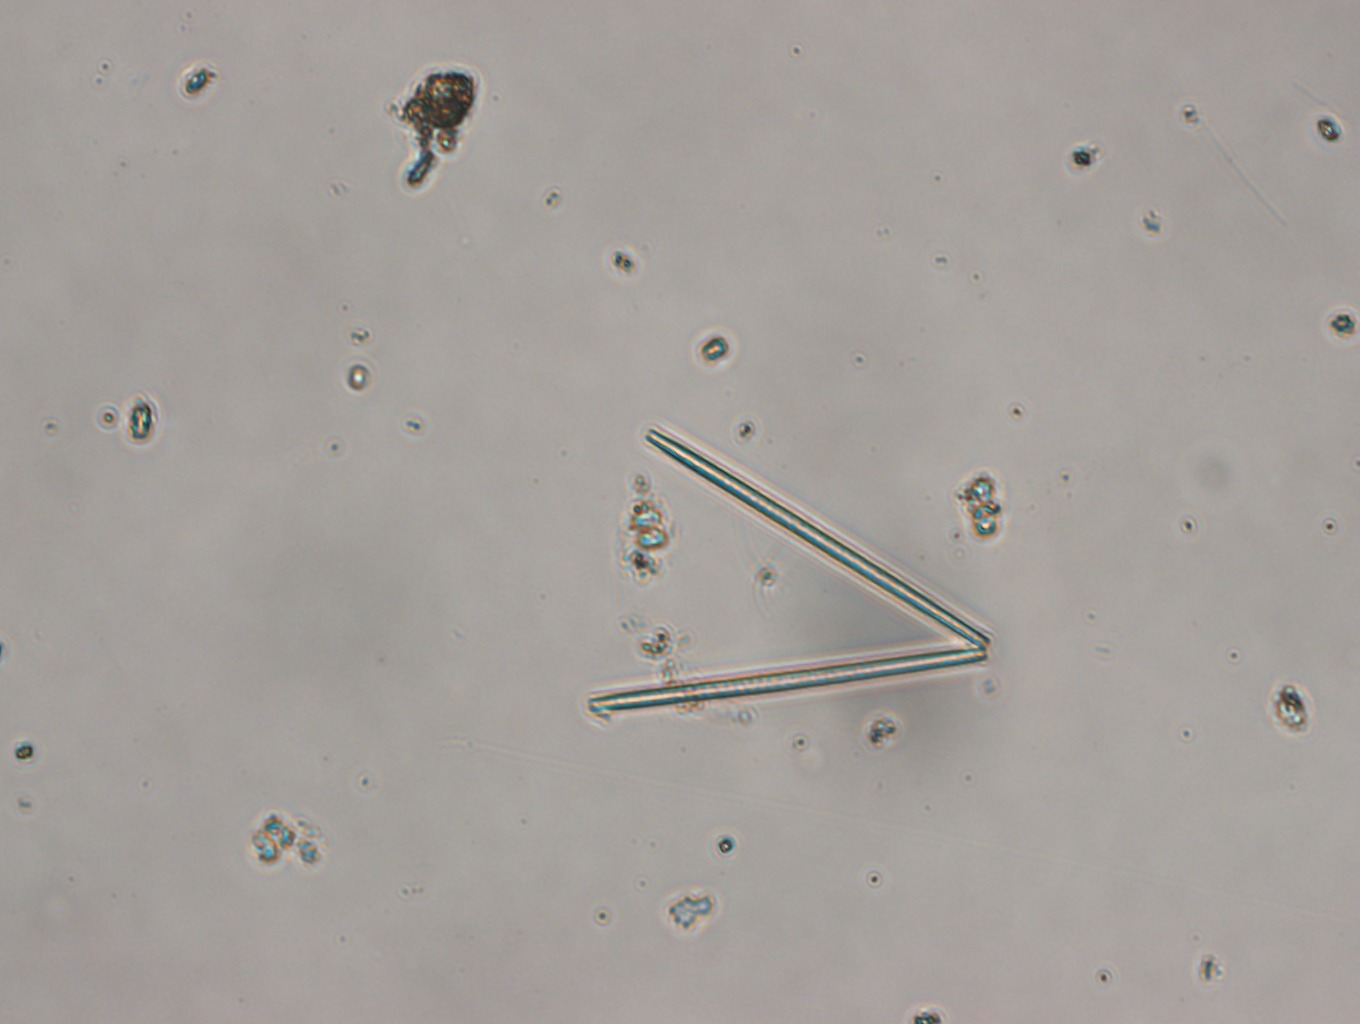thalassionema frauenfeldii: (579, 416, 1004, 728)
